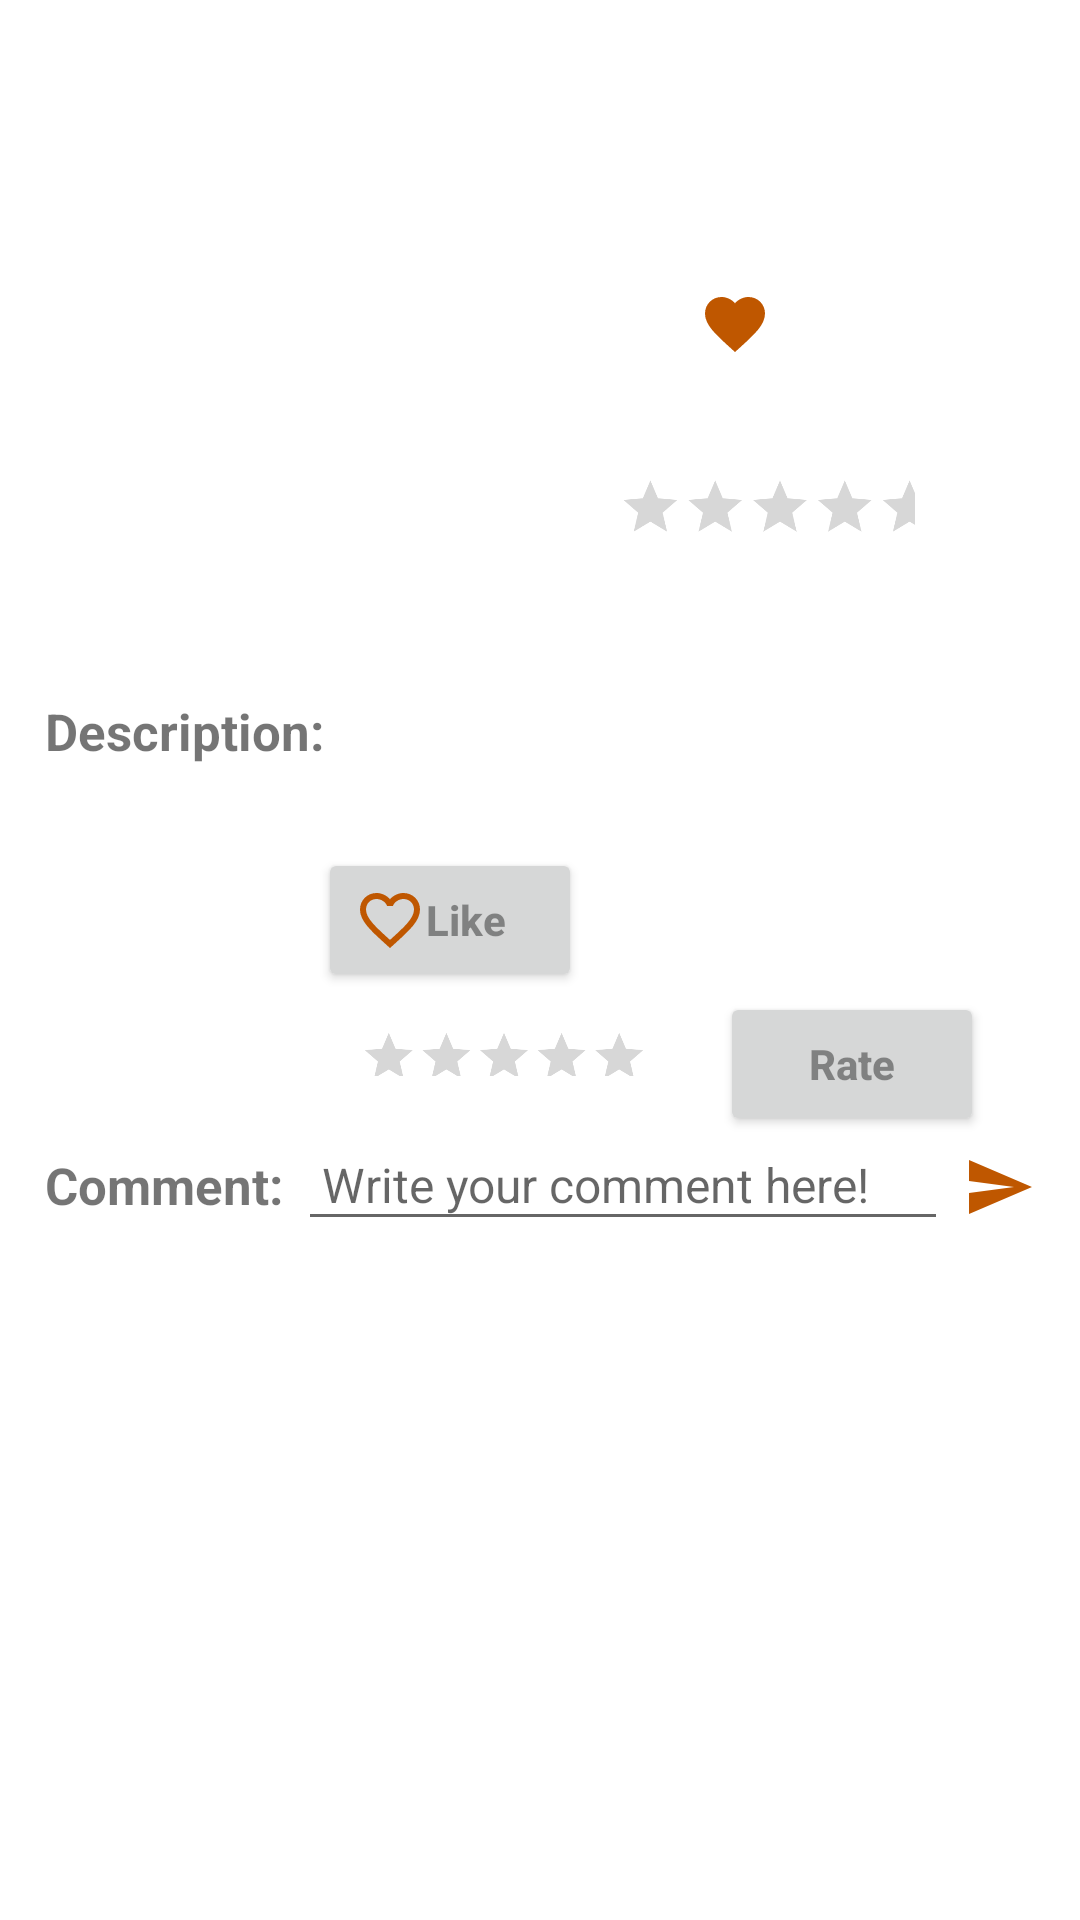

Point at icon controls on the screen. Image size 1080 × 1920, points as (x=x, y=y).
favorite: (x=735, y=324)
send: (x=1000, y=1187)
